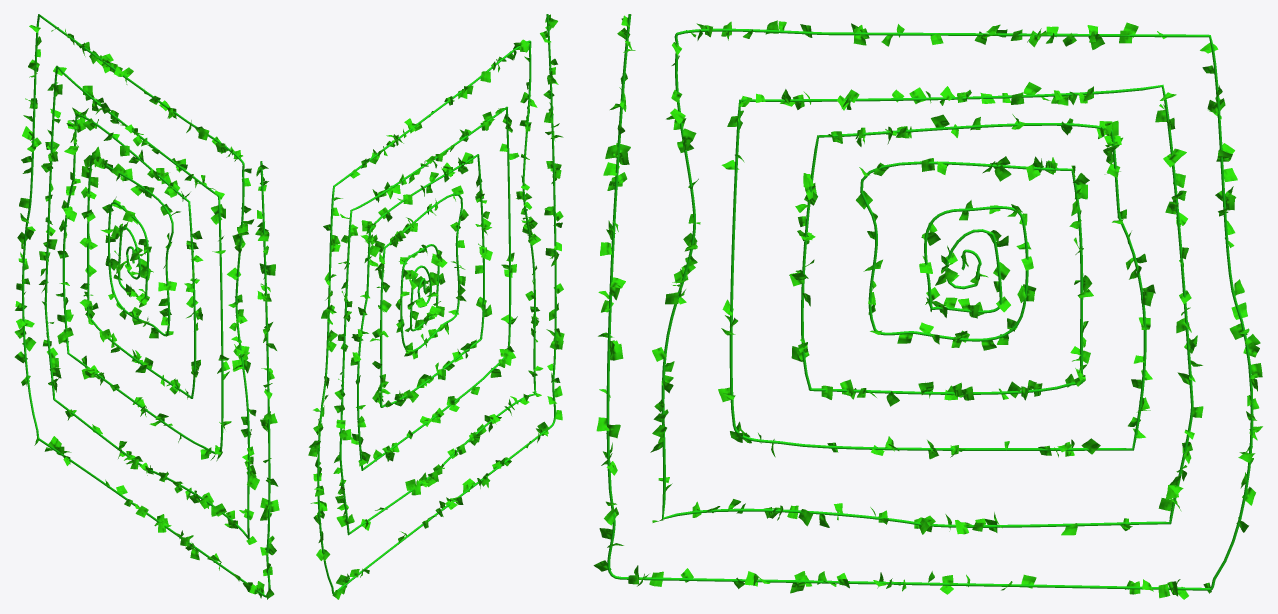
The model's file is vine4.fbx.
3 renders of one model, left to right at view 1: azimuth 30°, elevation 25°; view 2: azimuth 150°, elevation 25°; view 3: azimuth 270°, elevation 25°, orthographic. The views are drawn at different scales.
Parts seen in each view (by area): view 1: BézierCurve.004; view 2: BézierCurve.004; view 3: BézierCurve.004.
Boxes of the visible parts, bbox=[...] form: BézierCurve.004: bbox=[14, 14, 279, 599]; BézierCurve.004: bbox=[308, 14, 564, 599]; BézierCurve.004: bbox=[593, 14, 1262, 599].
Bounding box in the file's own units: 29.5 × 564 × 587.
